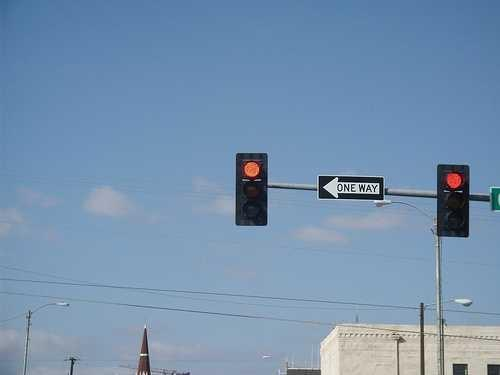red: (437, 164, 472, 238), (237, 151, 269, 227), (437, 166, 470, 189), (239, 153, 267, 178)
